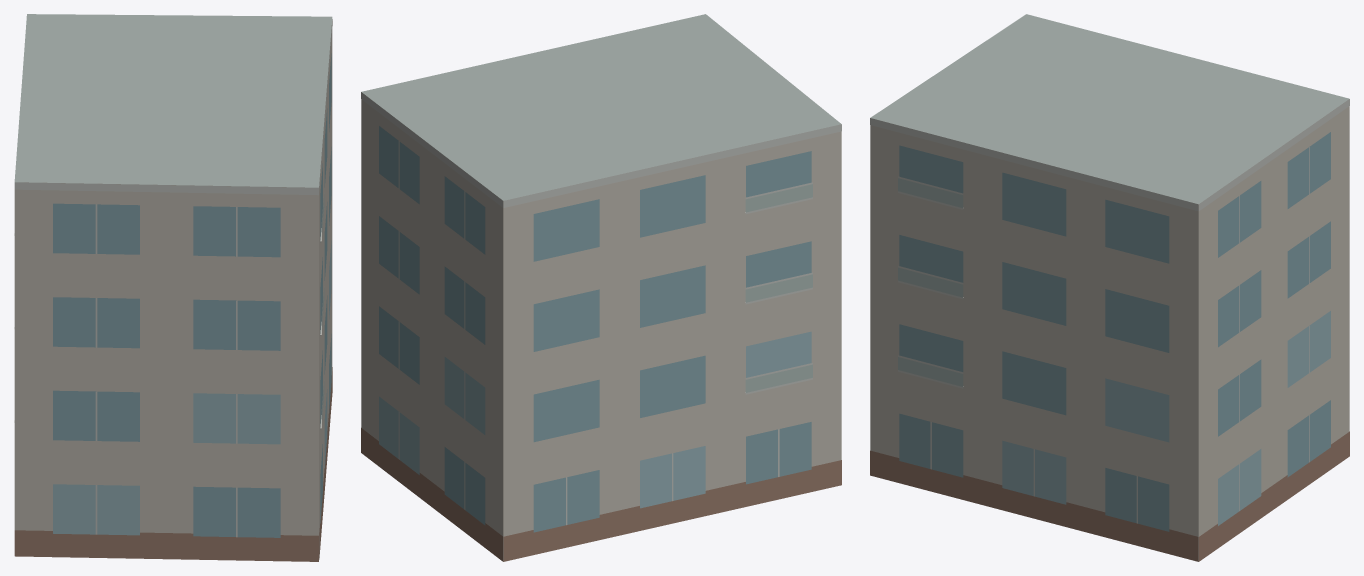
Rendered from survey-upis-32732720.glb.
3 renders of one model, left to right at view 1: azimuth 30°, elevation 25°; view 2: azimuth 150°, elevation 25°; view 3: azimuth 270°, elevation 25°, orthographic. The views are drawn at different scales.
Visible parts, largest first — view 1: survey-upis-32732720.tmp; view 2: survey-upis-32732720.tmp; view 3: survey-upis-32732720.tmp.
Part boxes in pixels (x1,y1,x2,y2): survey-upis-32732720.tmp: (14, 14, 332, 561); survey-upis-32732720.tmp: (361, 14, 841, 561); survey-upis-32732720.tmp: (870, 14, 1349, 561).
Bounding box in the file's own units: 13.93 × 12.2 × 14.84.
